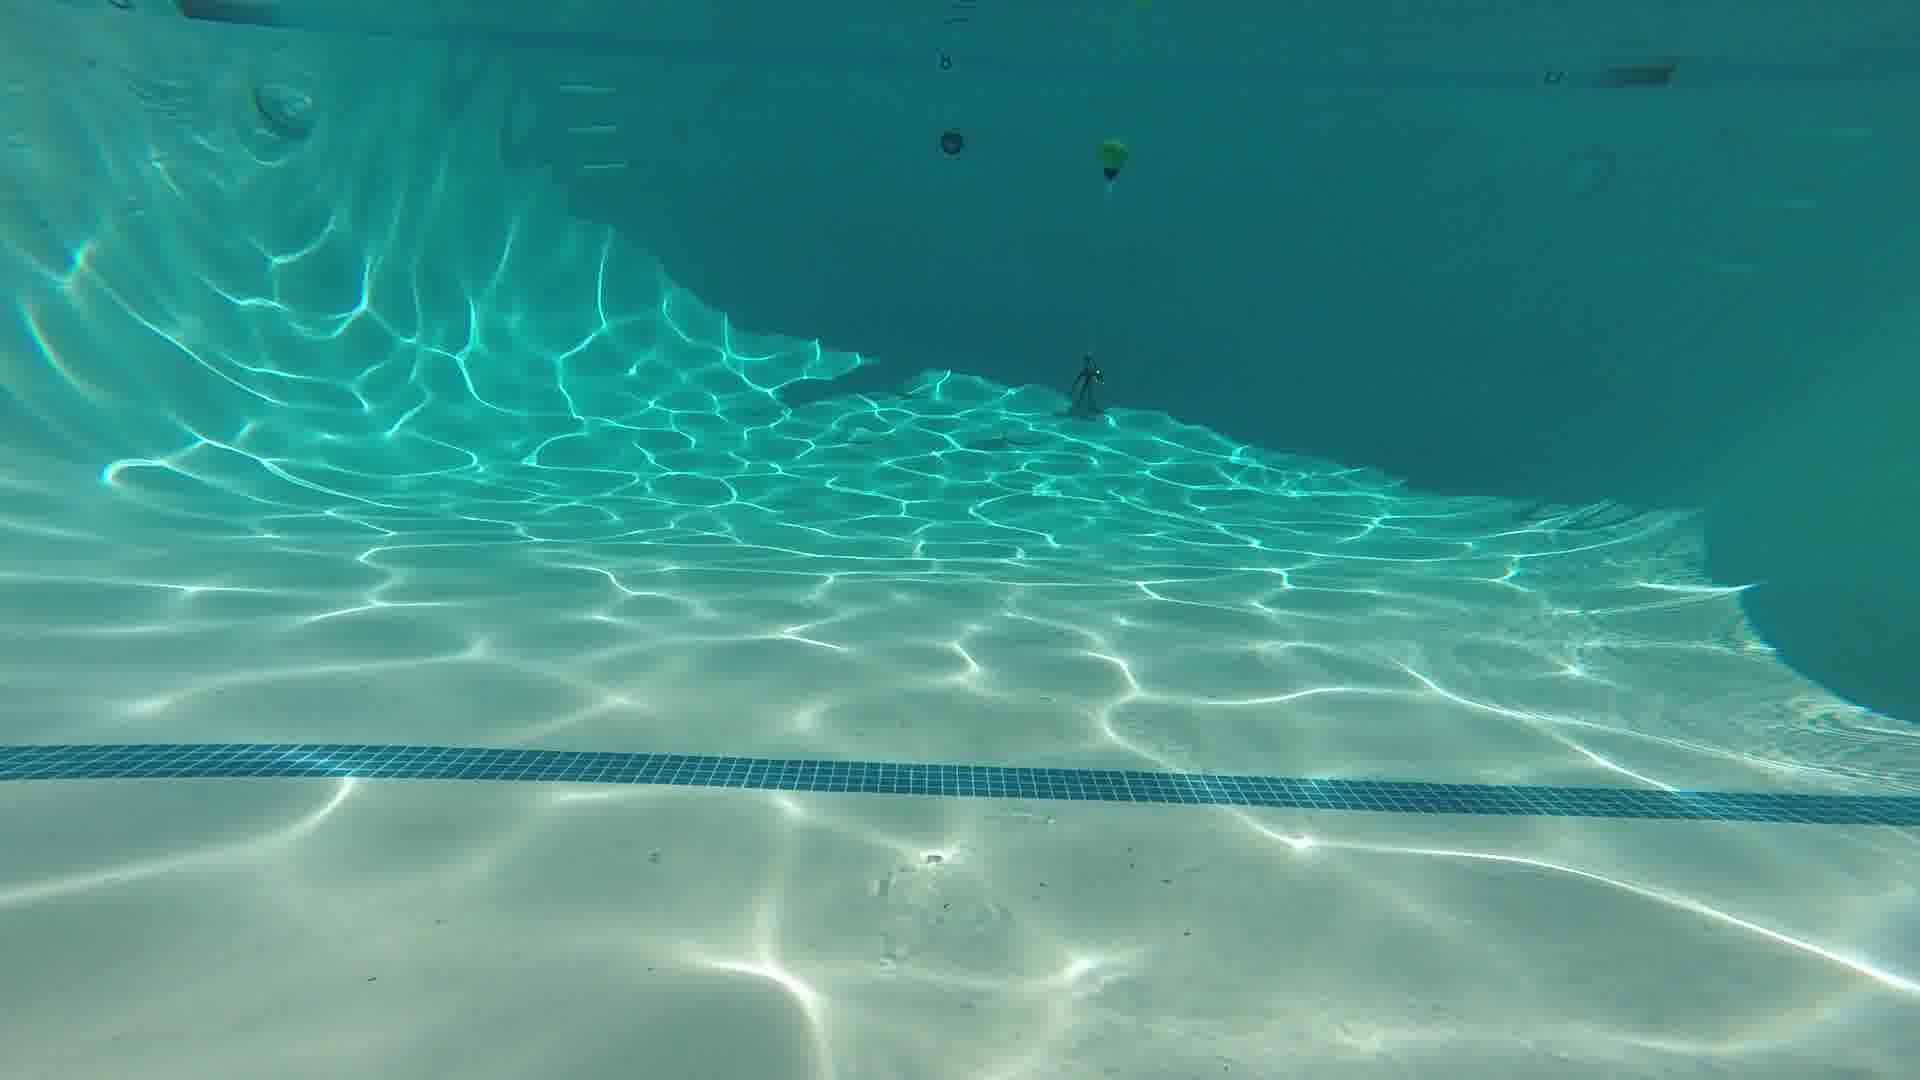yellow buoy: (1095, 135, 1131, 179)
